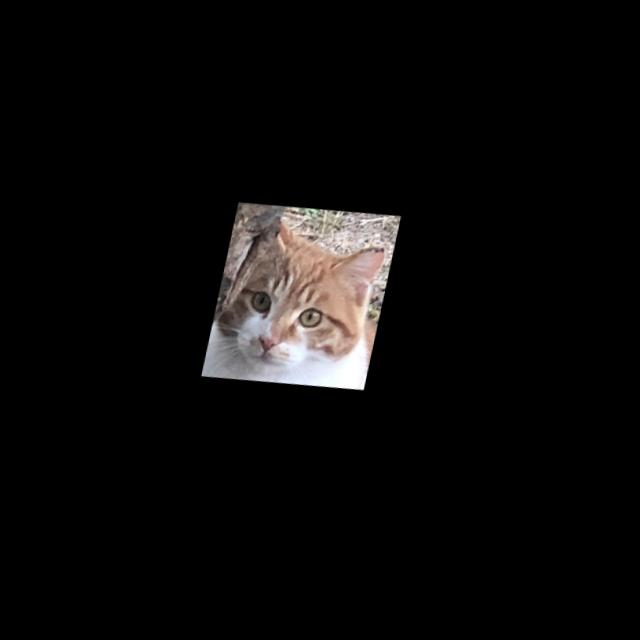animals: (217, 206, 396, 399)
